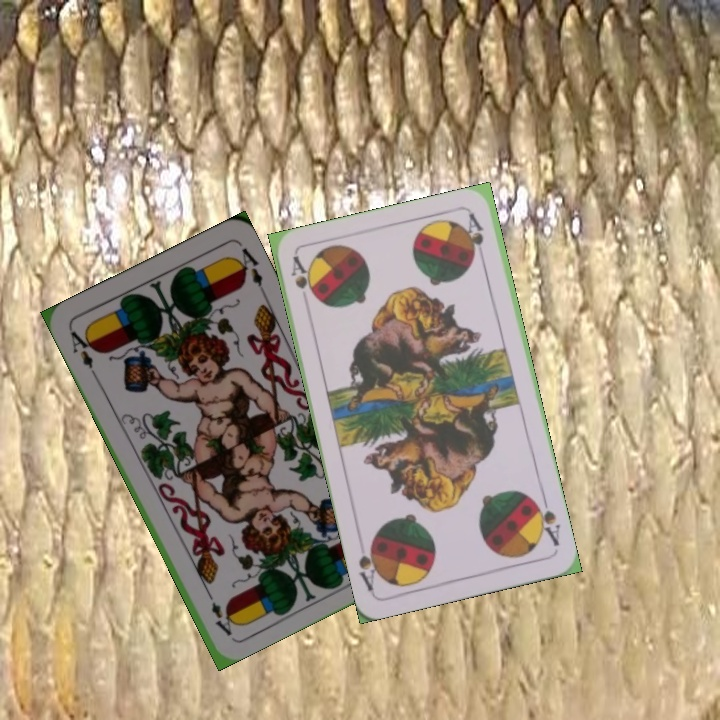EA: (65, 325, 99, 379)
SA: (529, 492, 563, 549), (286, 252, 318, 302)
